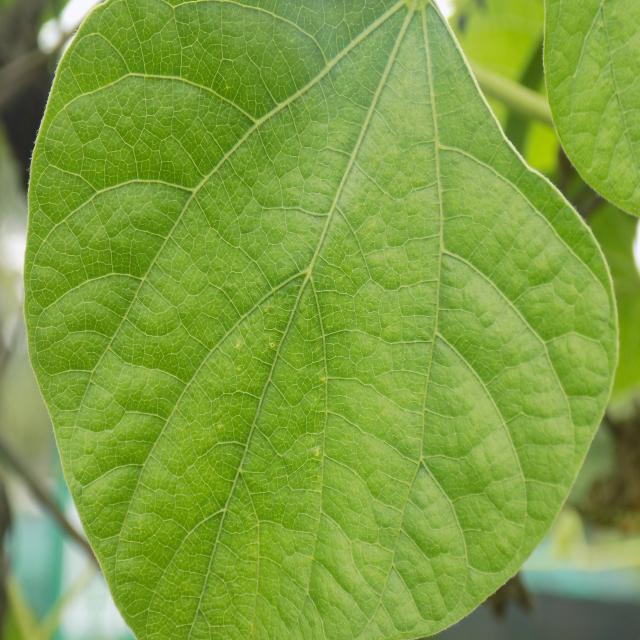Dolicos bean_healthy: (26, 0, 620, 640)
